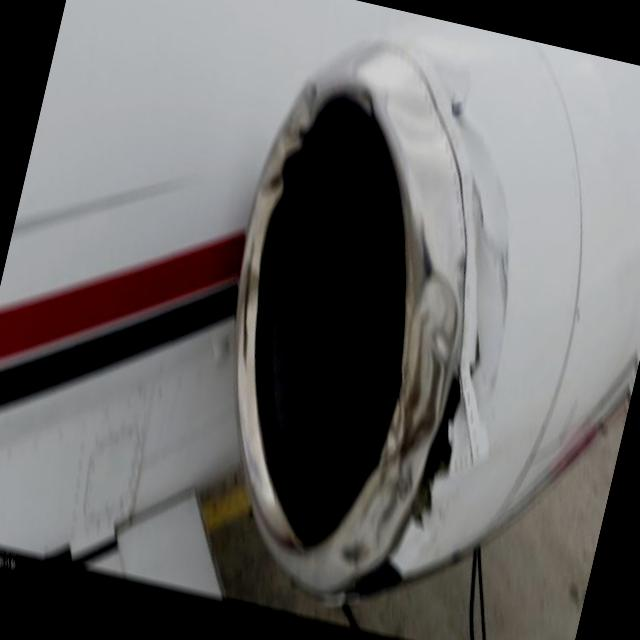dent: (335, 266, 469, 573), (390, 164, 480, 272), (258, 74, 320, 199), (369, 68, 456, 155)
